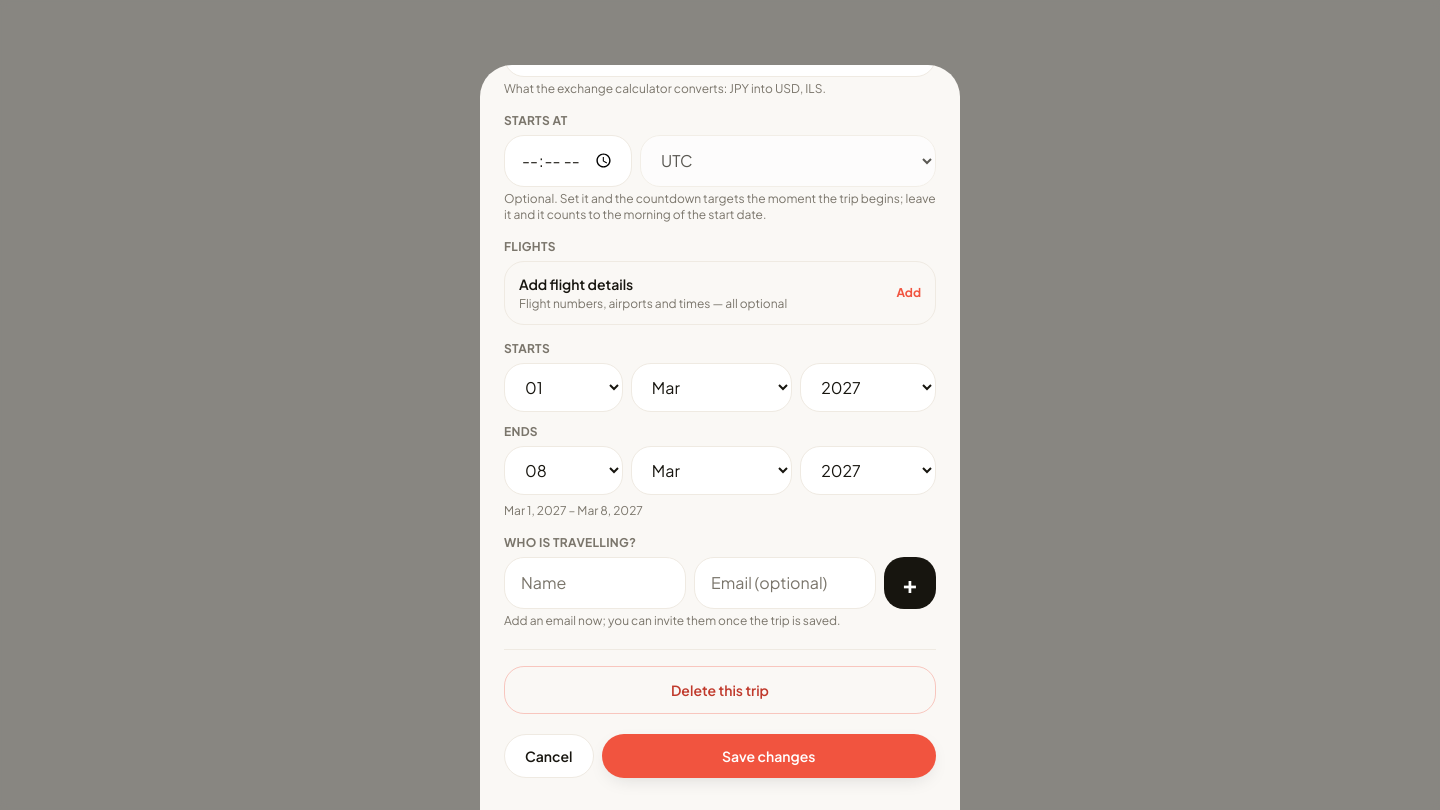
Test: TripSheet date changes that strand activities › says what moving a crowd of activities onto one day costs
(page scrolled)
Select "04" in the dropdown named "End day" at (563, 470), box [504,446,623,495]
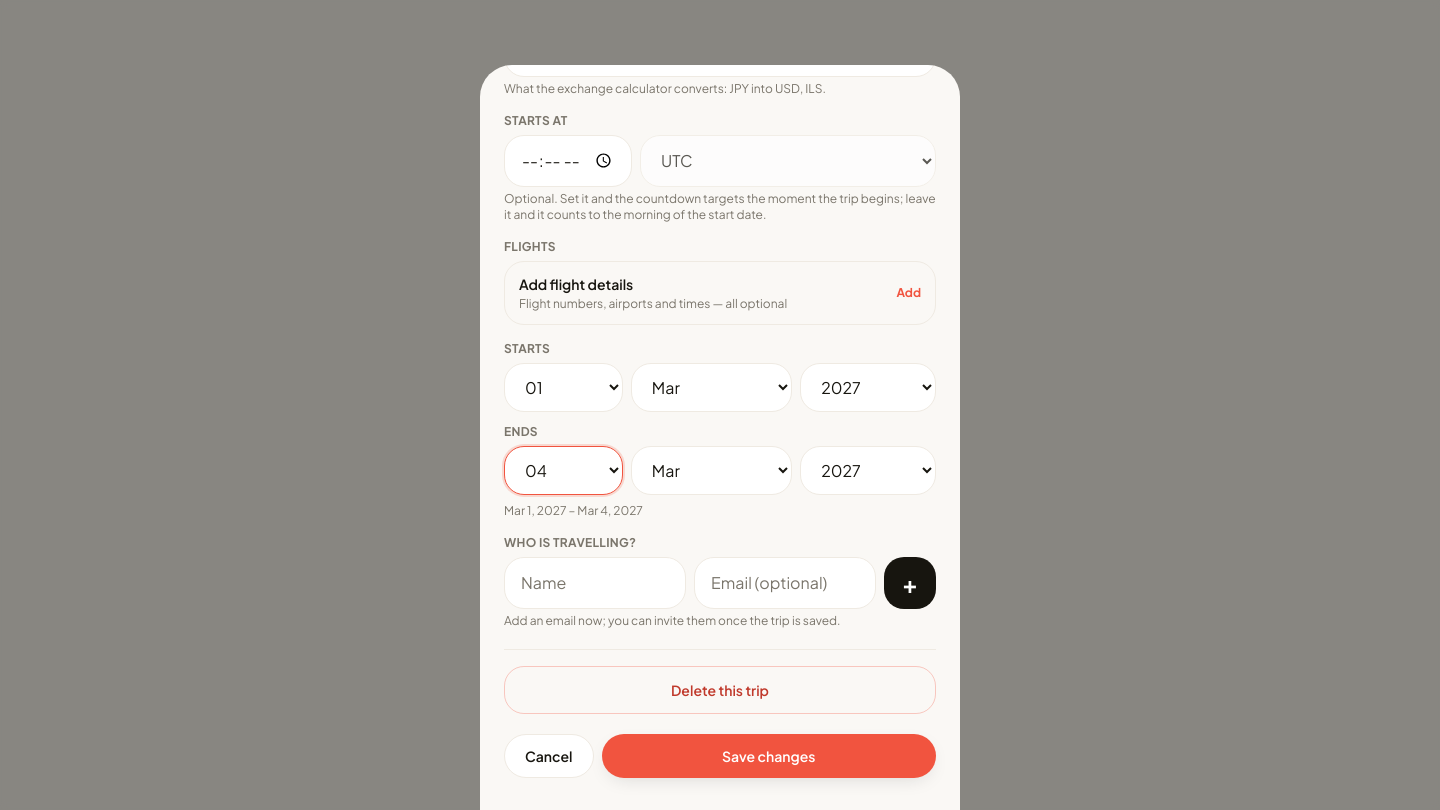
Click the button "Save changes" at (769, 756), box [602,734,936,778]
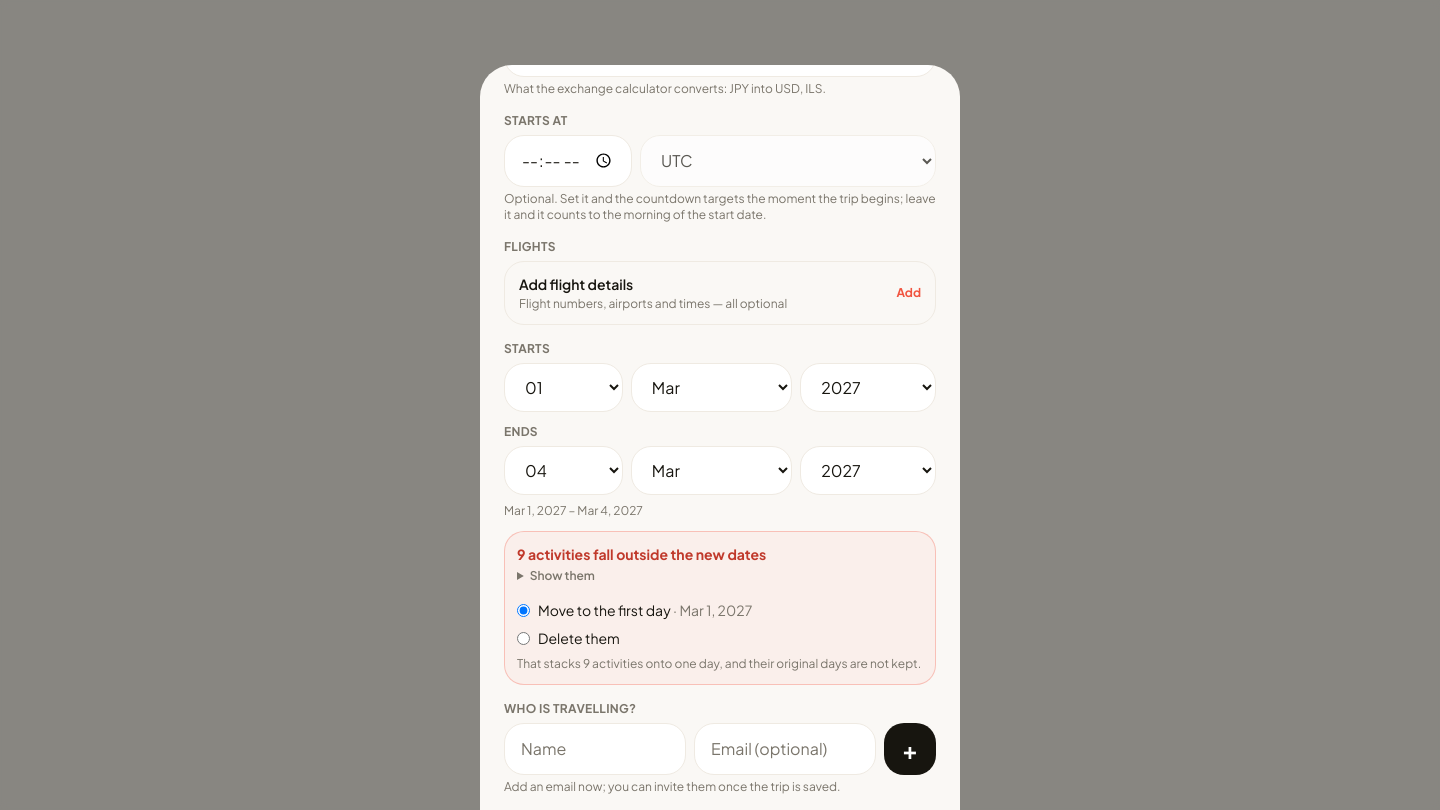
Now the text "9 activities fall outside the new dates" is shown, box [517,545,766,563]
Now the text "stacks 9 activities onto one day" is shown, box [517,656,923,672]
Click the radio button labelled "Delete them" at (524, 638), box [517,632,530,645]
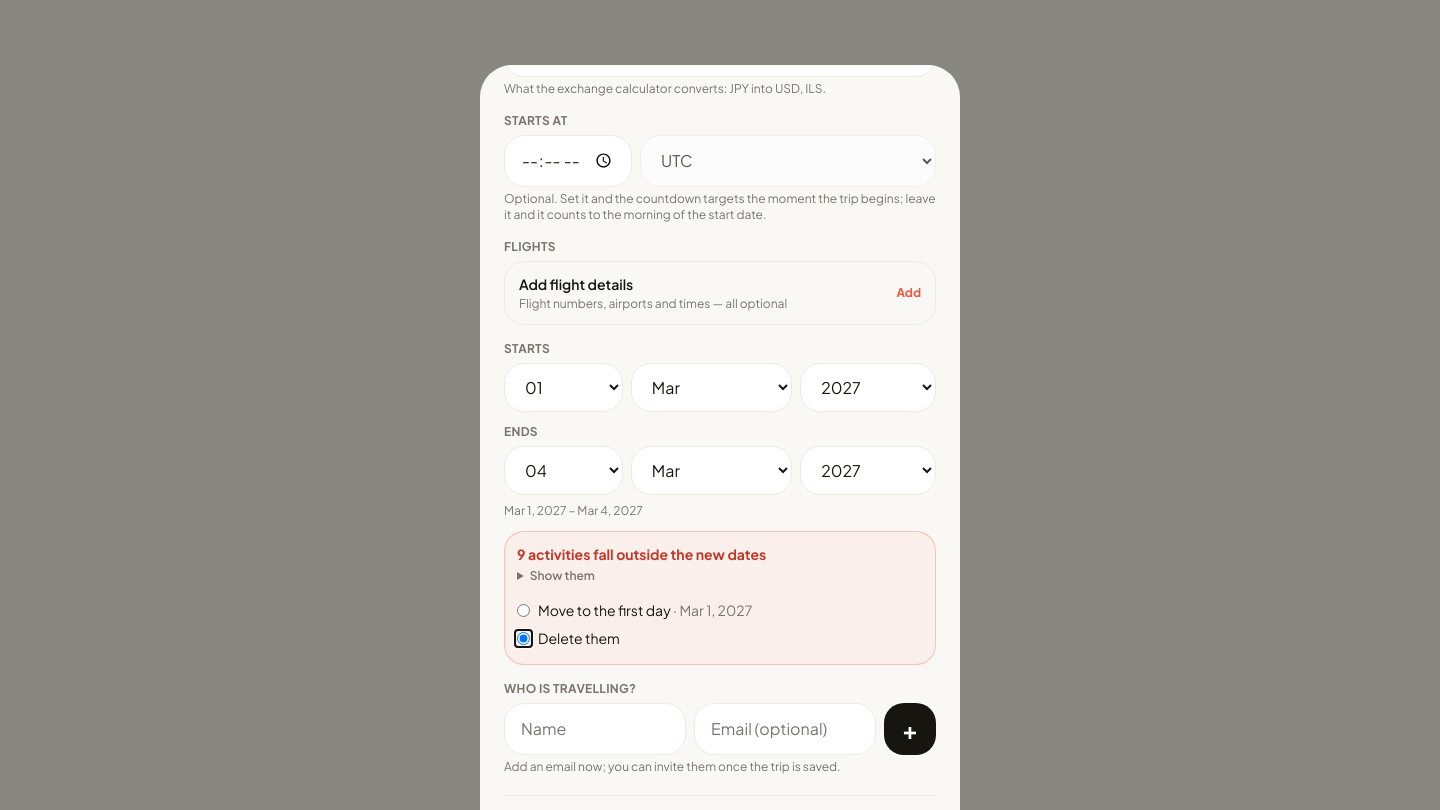
Now the text "stacks 9 activities" is gone
